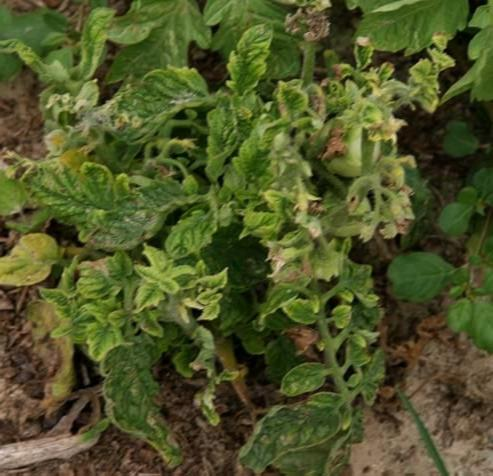Tomato leaf yellow virus: (12, 162, 140, 238), (116, 69, 212, 153), (100, 370, 171, 465), (227, 130, 285, 203), (162, 209, 224, 261), (232, 26, 272, 103), (274, 360, 336, 408), (82, 316, 130, 368), (239, 218, 293, 247), (279, 300, 325, 329), (331, 300, 360, 330), (136, 281, 162, 314)
